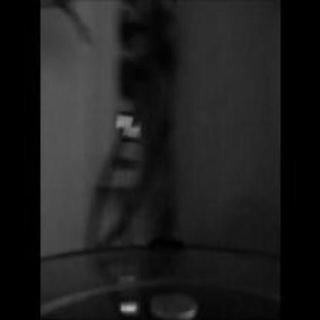other: (111, 259, 141, 317)
